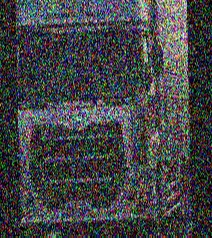truck: (15, 0, 192, 238)
